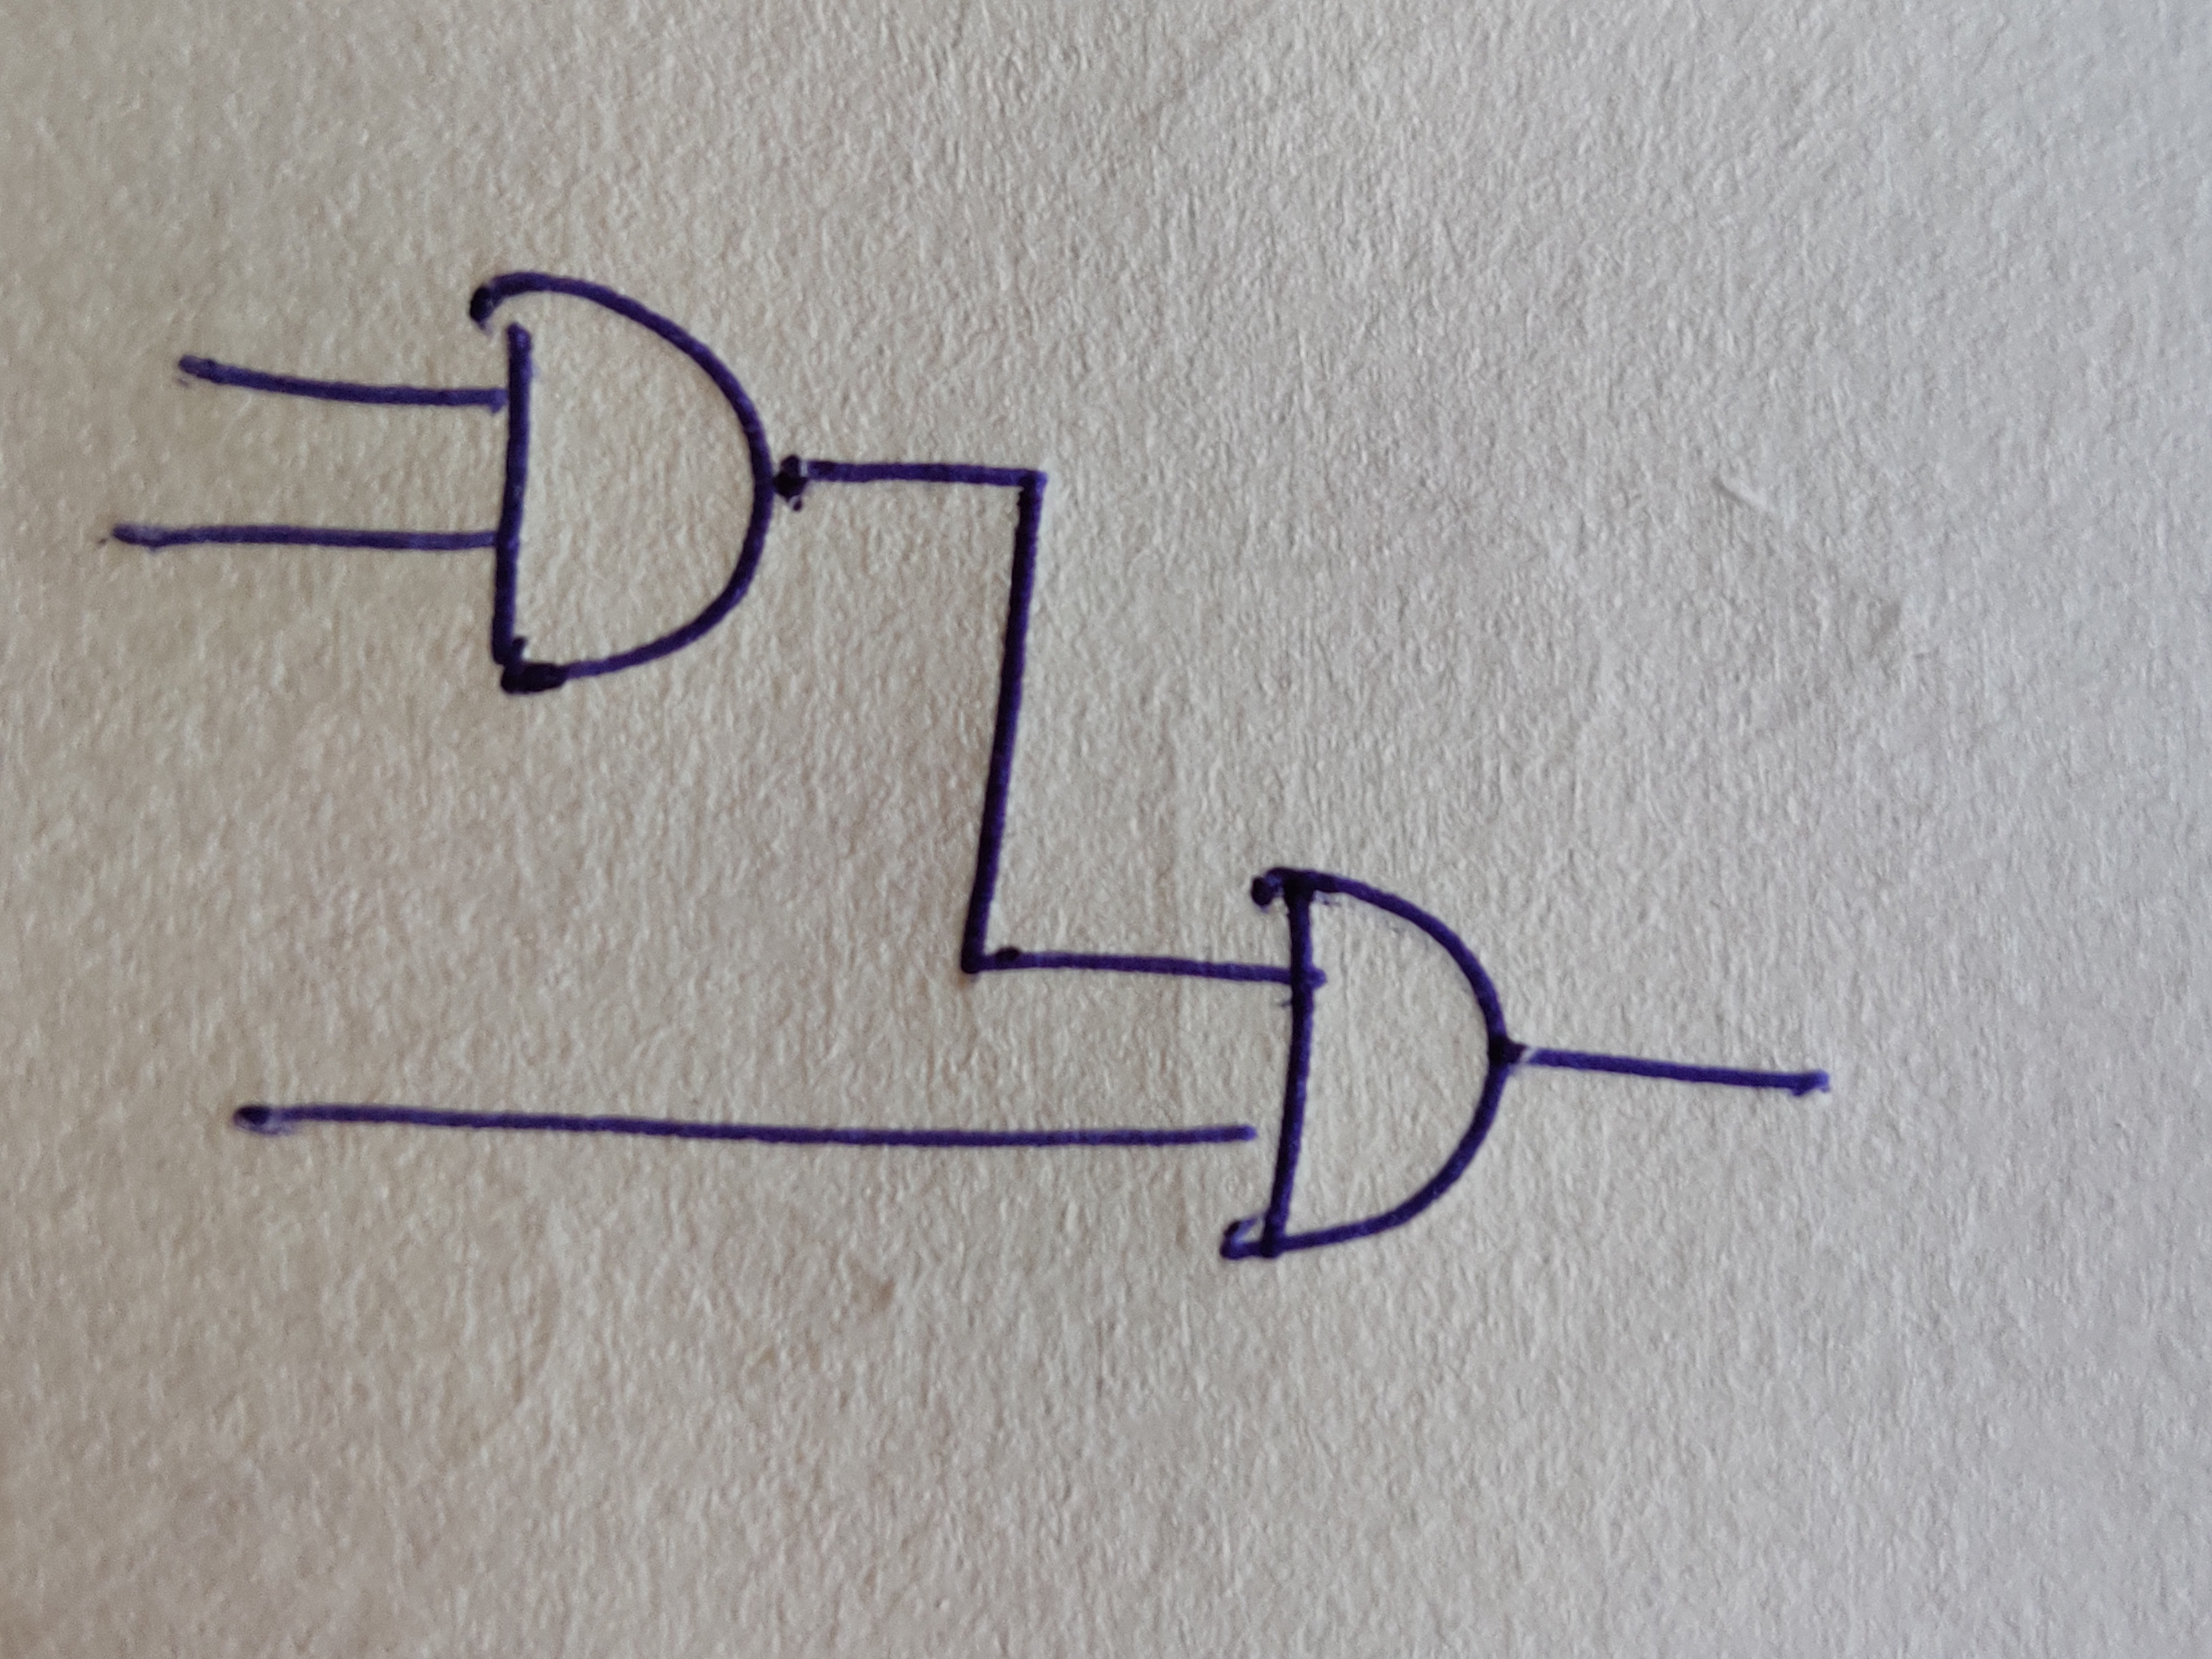and: (469, 272, 773, 697), (1221, 866, 1512, 1262)
